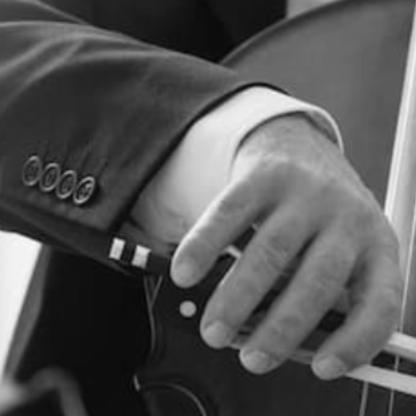good: (177, 142, 415, 392)
